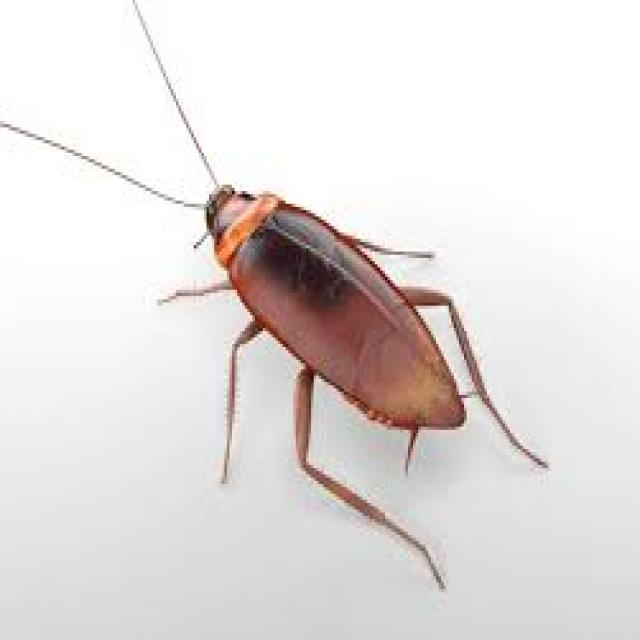Cockroach: (0, 0, 558, 605)
